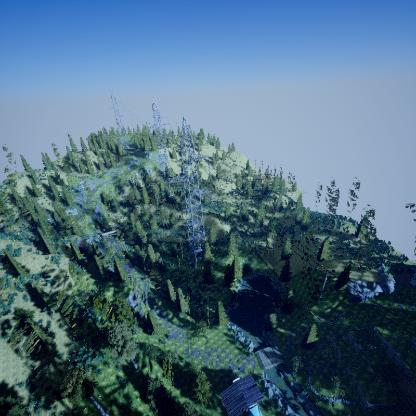tower: (163, 115, 221, 272)
